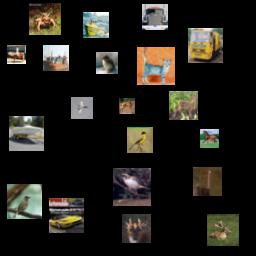airplane: (71, 97, 93, 119)
automobile: (49, 198, 84, 233)
bird: (113, 168, 151, 206), (7, 184, 42, 219), (193, 167, 222, 196), (127, 127, 153, 153), (96, 52, 118, 74)
cat: (137, 47, 175, 85)
deer: (207, 214, 239, 246), (169, 91, 198, 120), (122, 214, 151, 243), (119, 98, 135, 114)
frog: (29, 3, 61, 35)
ship: (9, 116, 44, 151), (83, 12, 109, 38), (43, 45, 69, 71)
truck: (188, 28, 223, 63), (142, 4, 168, 30)
